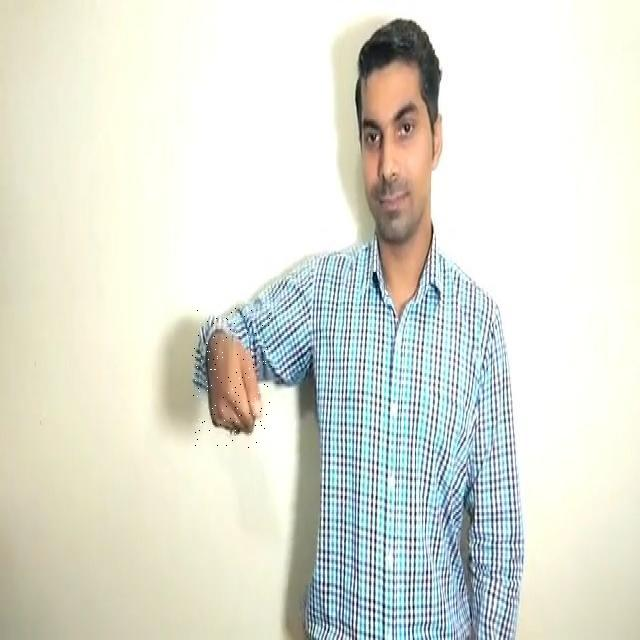bag: (192, 308, 272, 450)
